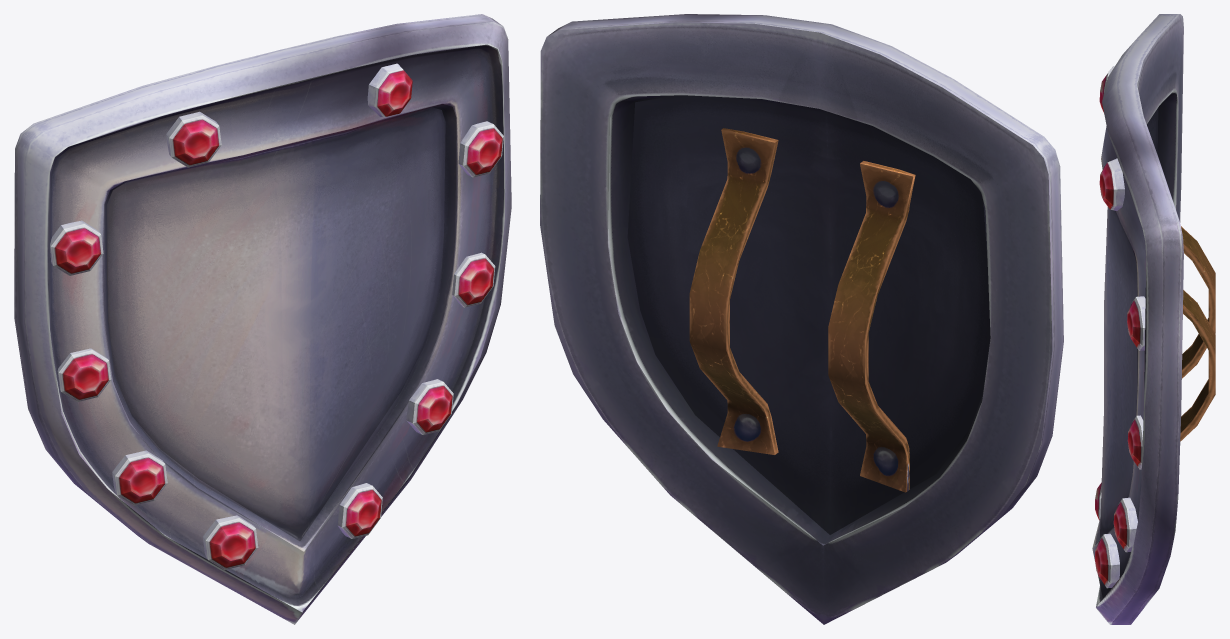
File: 063_a_jeweled_shield.fbx
3 views of the same model, side by side, from view 1: azimuth 30°, elevation 25°; view 2: azimuth 150°, elevation 25°; view 3: azimuth 270°, elevation 25° (orthographic). The views are drawn at different scales.
Visible parts, largest first — view 1: 063_a_jeweled_shield; view 2: 063_a_jeweled_shield; view 3: 063_a_jeweled_shield.
Part boxes in pixels (<box>): 063_a_jeweled_shield: <box>14,14,511,624</box>; 063_a_jeweled_shield: <box>540,14,1063,624</box>; 063_a_jeweled_shield: <box>1092,14,1215,624</box>.
Bounding box in the file's own units: 63.08 × 69.97 × 14.48.
